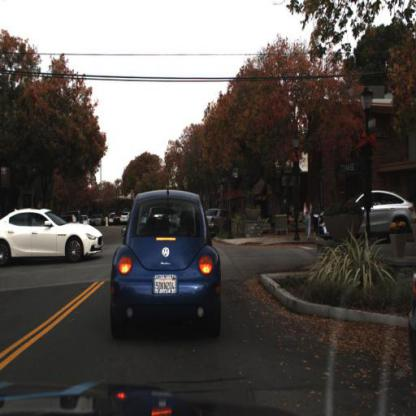car: (110, 176, 227, 340), (1, 204, 108, 273), (318, 187, 416, 247), (203, 208, 233, 238)
pedestrian: (302, 196, 313, 240)
